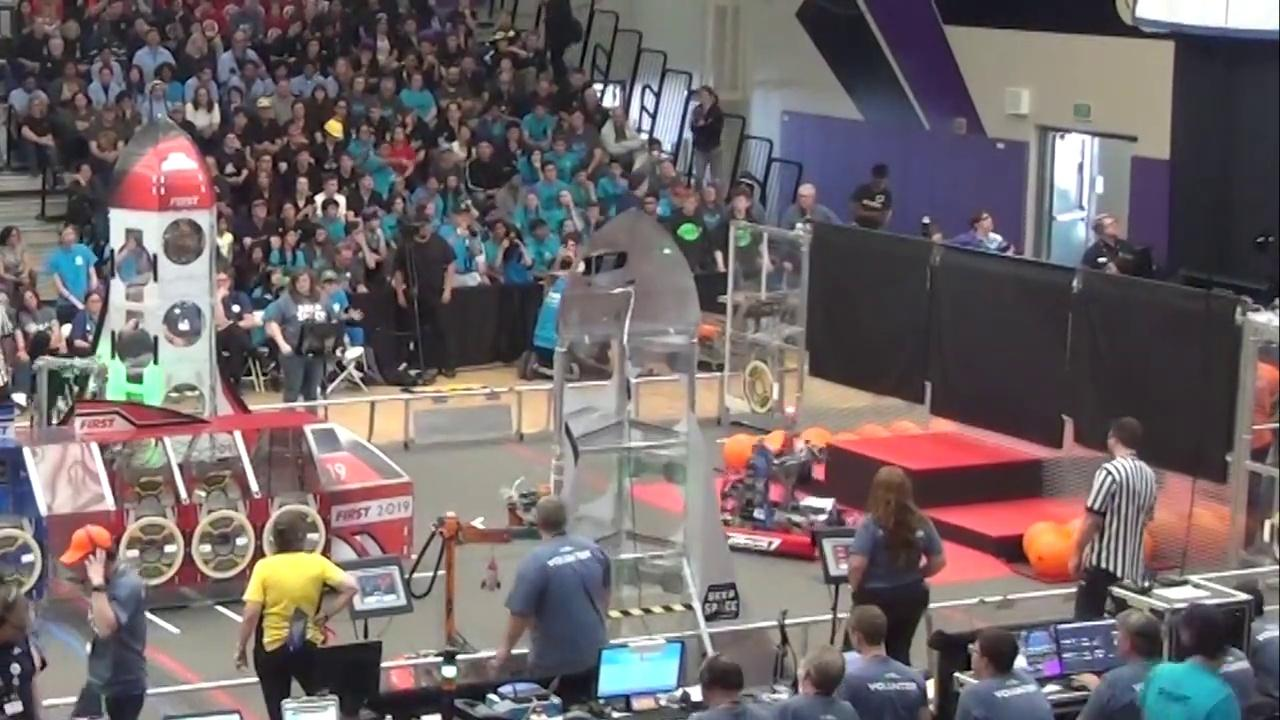robot: (704, 424, 842, 565)
